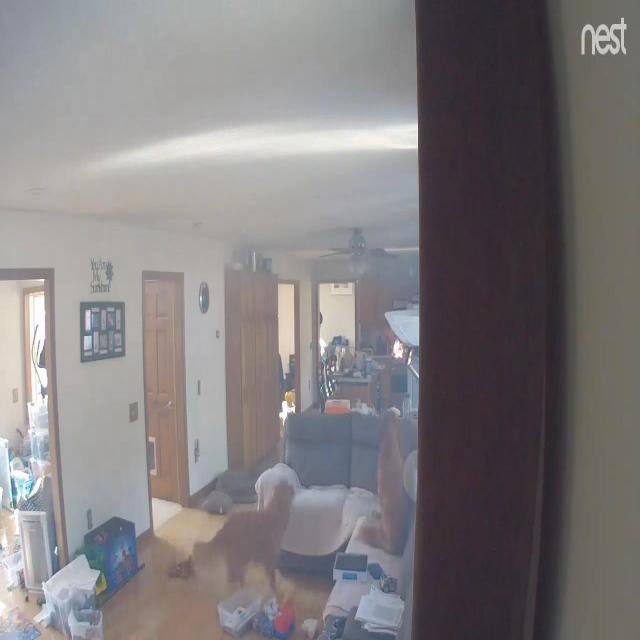fire: (394, 339, 404, 358)
